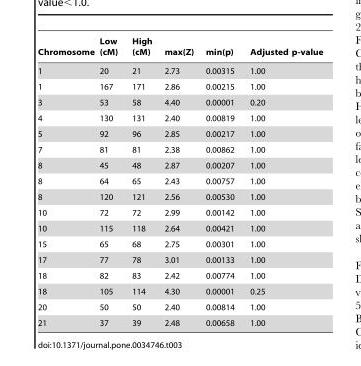table: (37, 36, 322, 327)
table column: (241, 36, 322, 327), (37, 36, 96, 327), (157, 36, 199, 327), (199, 36, 241, 327), (124, 36, 157, 327), (96, 36, 124, 327)
table column header: (37, 36, 322, 61)
table row: (37, 36, 322, 61), (37, 61, 322, 78), (37, 78, 322, 94), (37, 94, 322, 110), (37, 125, 322, 141), (37, 141, 322, 157), (37, 157, 322, 173), (37, 188, 322, 204), (37, 204, 322, 220), (37, 220, 322, 236), (37, 251, 322, 267), (37, 267, 322, 283), (37, 283, 322, 299), (37, 110, 322, 125), (37, 173, 322, 188), (37, 236, 322, 251), (37, 299, 322, 314), (37, 314, 322, 327)
